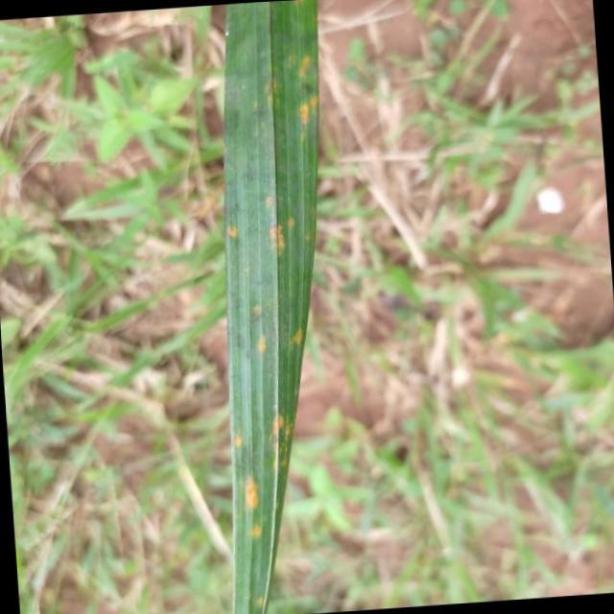Kalium: (216, 0, 323, 614)
